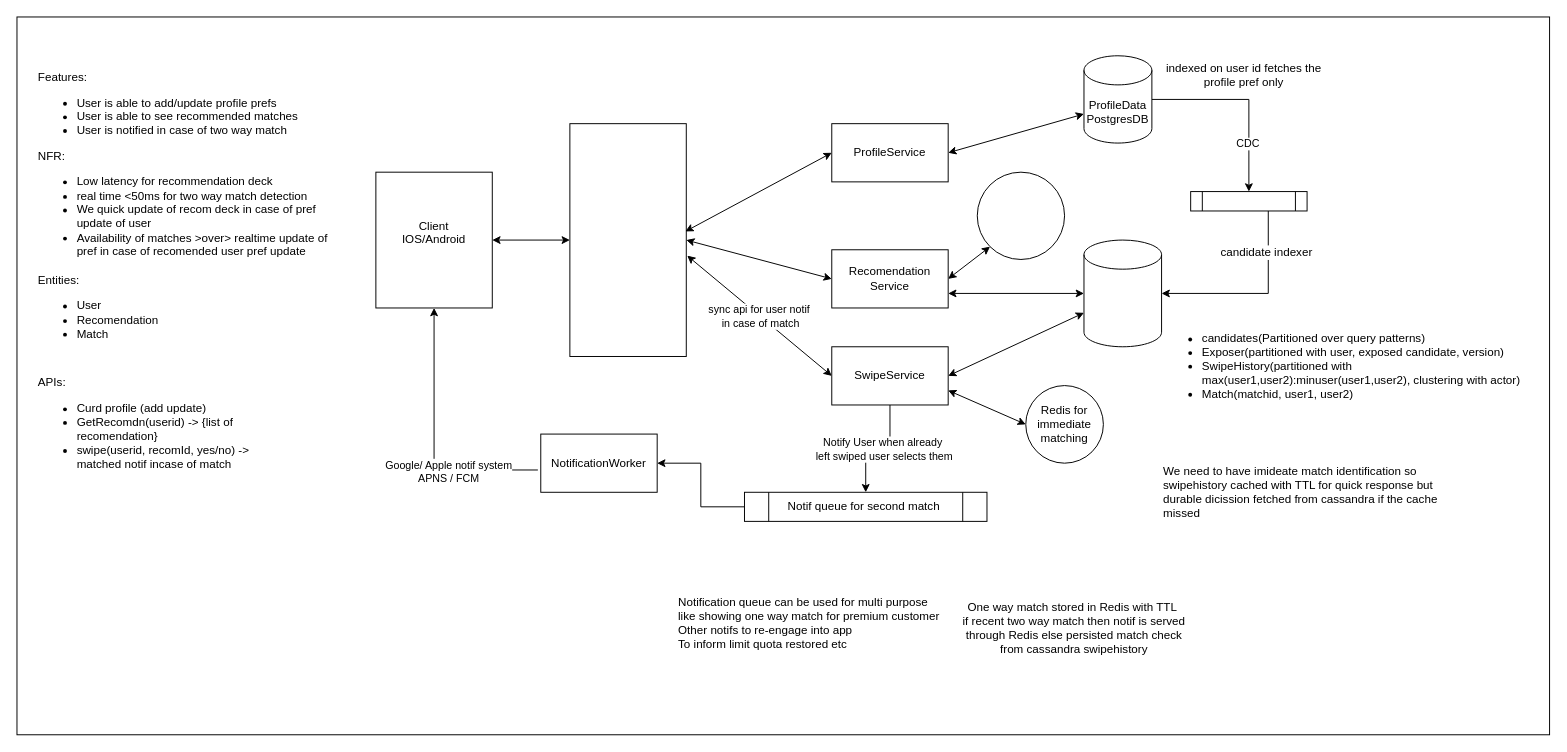
This 1567x752 diagram has some shape labels left out. Here are the shapes that lost their labels. From the top down, the centre of each, then its label:
At pixel 1020 215: "Store recomendation decks".
At pixel 1248 201: "profile Updates".
At pixel 627 239: "LB ApiGateway SSL Handshake Rate limitter".
At pixel 1122 293: "Cassandra DB".
